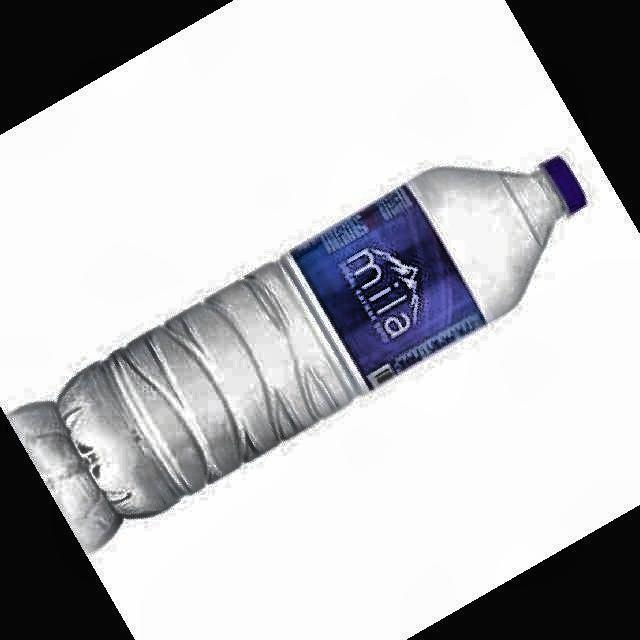plastic: (56, 158, 586, 516)
